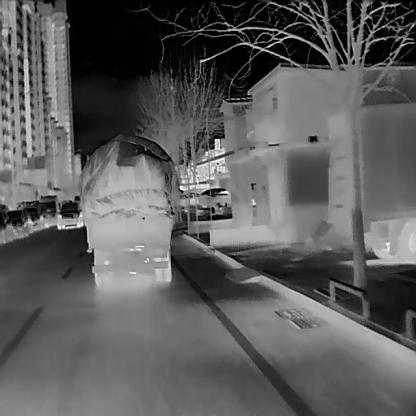car: (197, 186, 230, 210), (56, 200, 83, 228), (8, 209, 29, 237), (24, 203, 44, 232), (0, 204, 13, 243), (39, 201, 58, 225), (180, 190, 200, 206)
truck: (74, 124, 181, 288), (328, 100, 416, 262), (267, 140, 328, 254)
